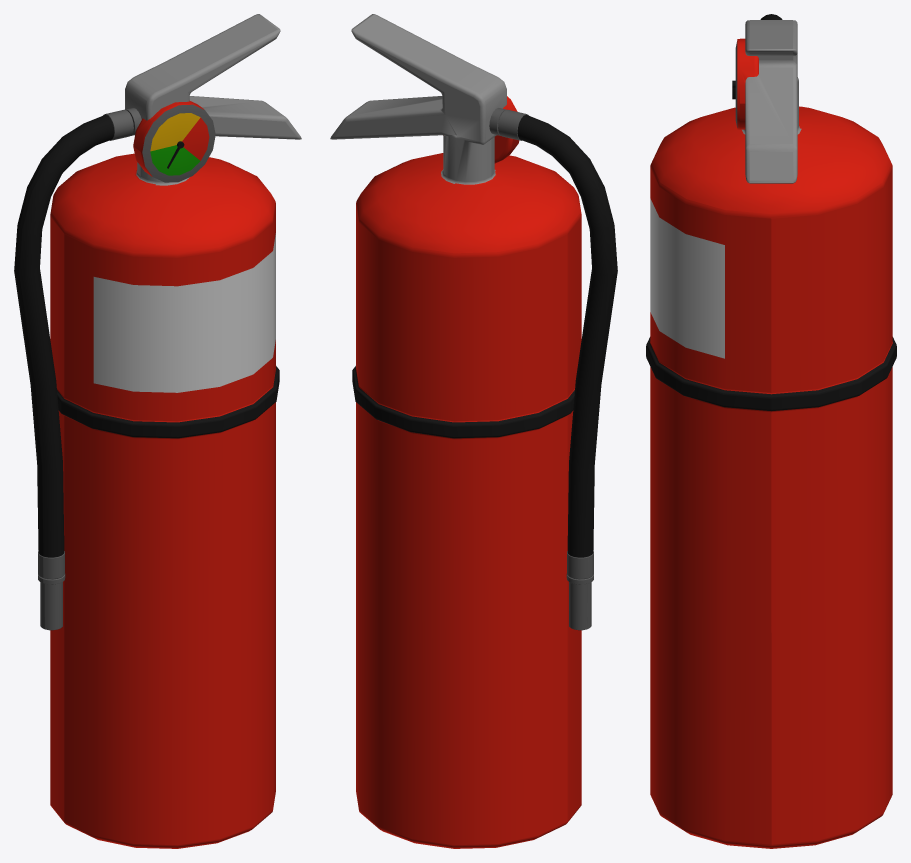
The model's file is FireExtinguisher.fbx.
3 views of the same model, side by side, from view 1: azimuth 30°, elevation 25°; view 2: azimuth 150°, elevation 25°; view 3: azimuth 270°, elevation 25° (orthographic). The views are drawn at different scales.
Visible parts, largest first — view 1: Cylinder.001; view 2: Cylinder.001; view 3: Cylinder.001.
Part boxes in pixels (bbox=[...]): Cylinder.001: bbox=[14, 14, 301, 848]; Cylinder.001: bbox=[330, 14, 617, 848]; Cylinder.001: bbox=[646, 14, 896, 848].
Size of the model in its own units: 345 by 905 by 255.
